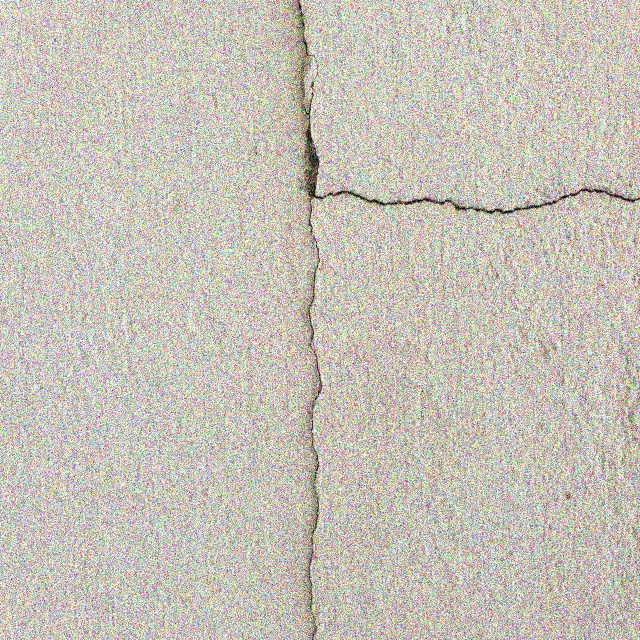SurfaceCrack: (247, 1, 378, 640), (313, 149, 638, 241)
